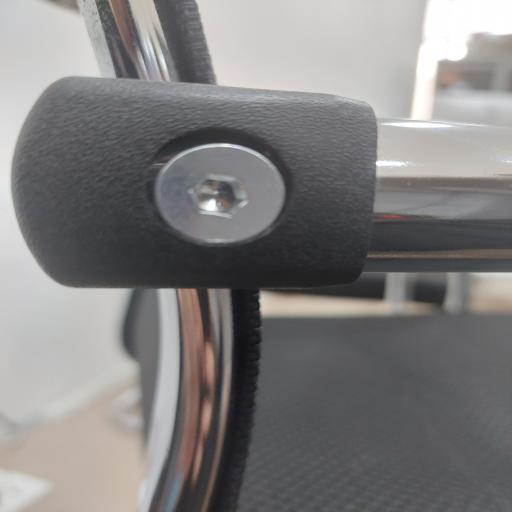Hex-Allen: (152, 136, 285, 246)
